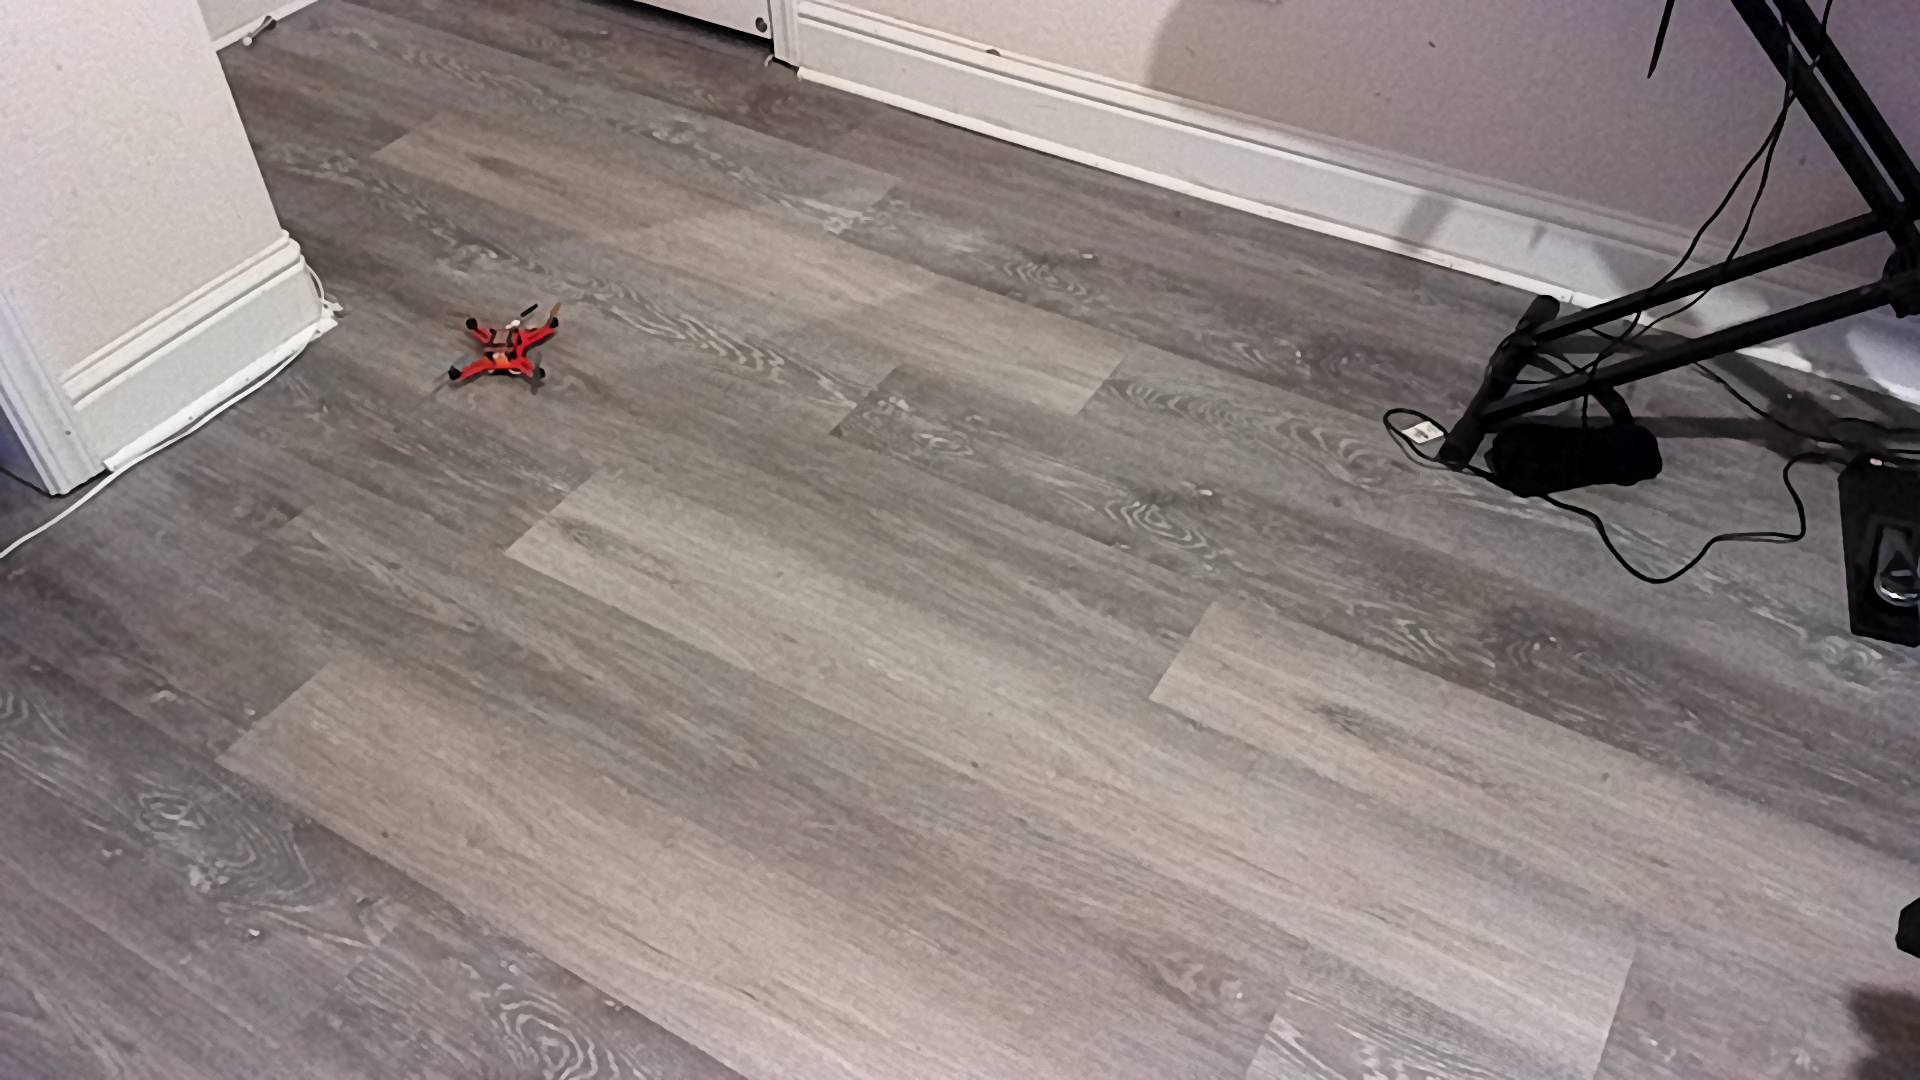drone: (409, 297, 591, 409)
